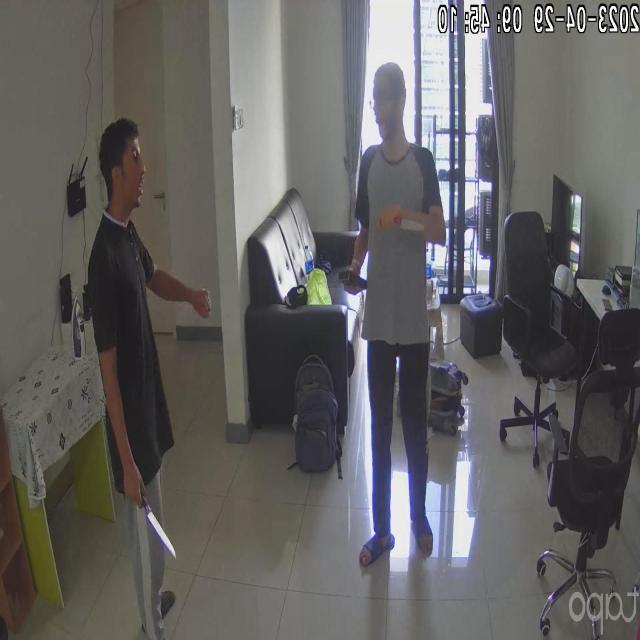Knife: (131, 486, 187, 566), (378, 210, 429, 242)
